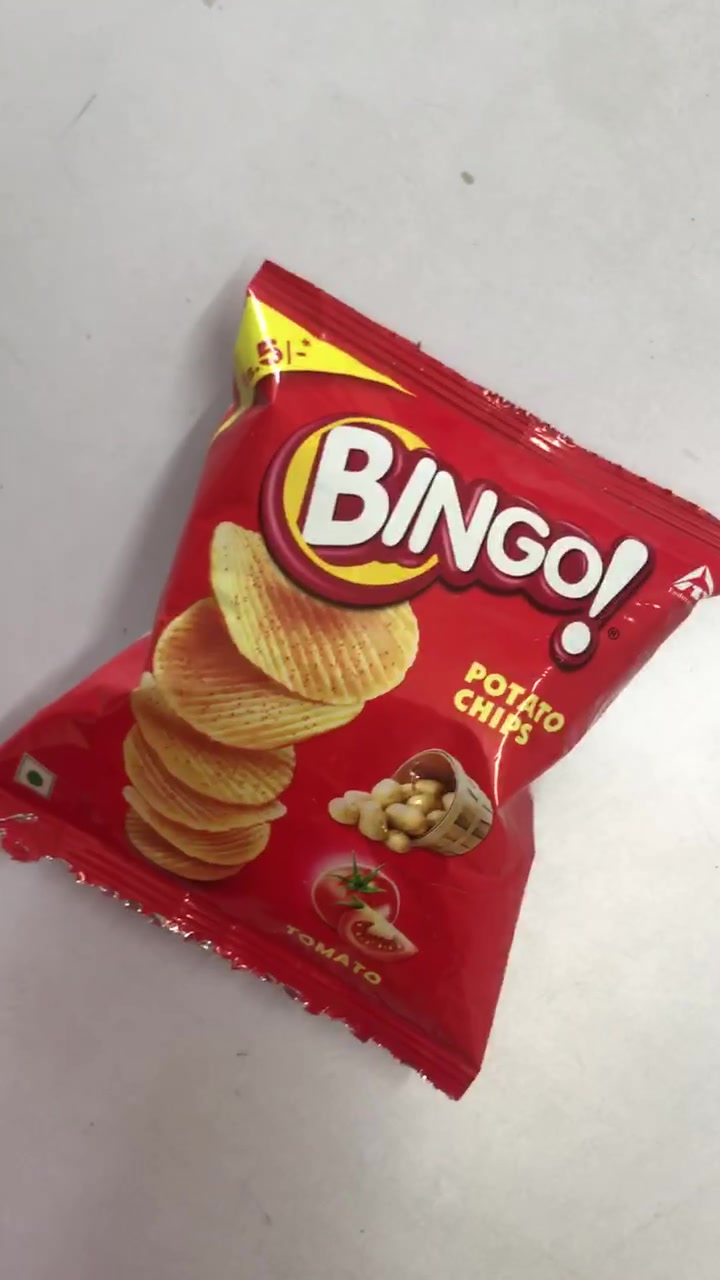Bingo: (3, 266, 720, 1089)
